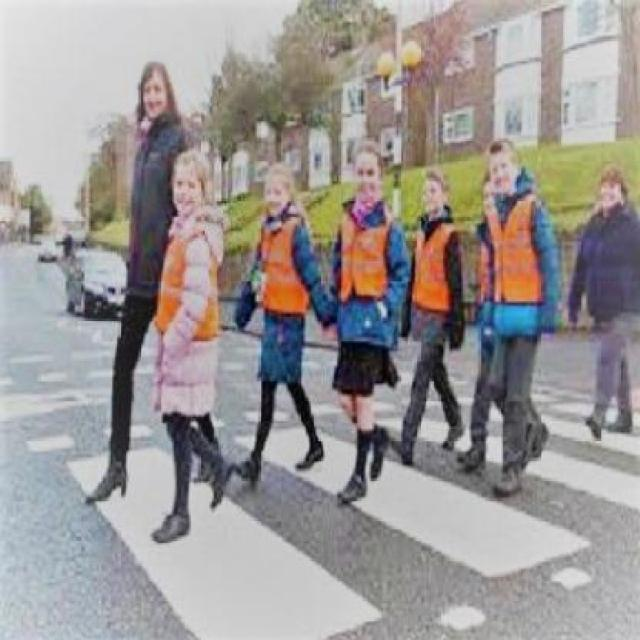Person: (83, 53, 186, 532), (145, 140, 237, 549), (476, 132, 564, 500), (240, 162, 338, 487), (338, 135, 397, 510), (398, 162, 471, 464), (574, 158, 638, 439)
